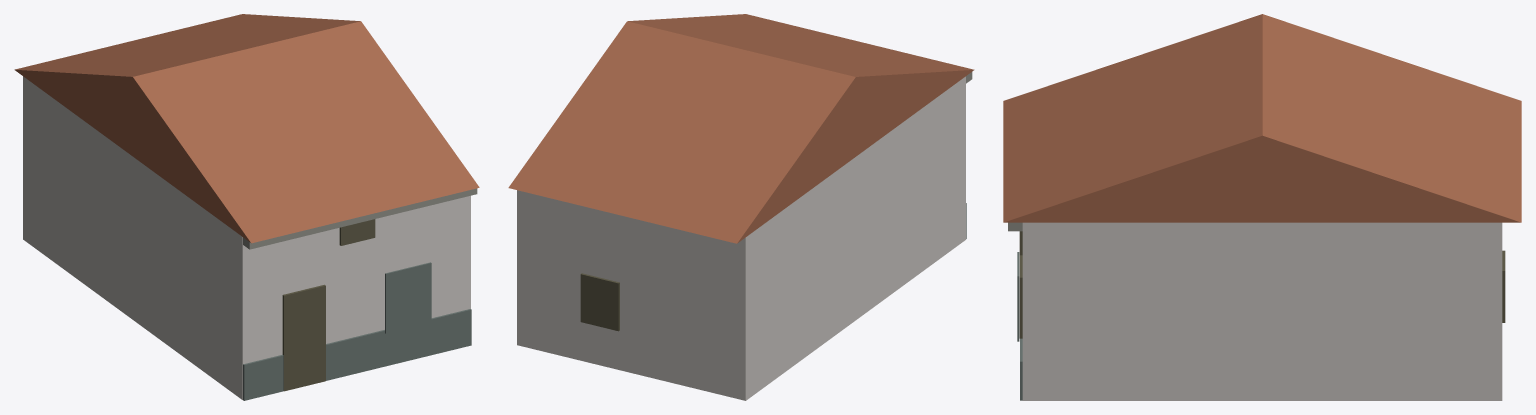
File: SM_casa_pueblo_v2_LOD0.fbx
3 views of the same model, side by side, from view 1: azimuth 30°, elevation 25°; view 2: azimuth 150°, elevation 25°; view 3: azimuth 270°, elevation 25° (orthographic). The views are drawn at different scales.
Visible parts, largest first — view 1: SM_casa_pueblo_v2_LOD0; view 2: SM_casa_pueblo_v2_LOD0; view 3: SM_casa_pueblo_v2_LOD0.
Boxes of the visible parts, box(x1,y1,x2,y2) form: SM_casa_pueblo_v2_LOD0: box(14, 14, 479, 400); SM_casa_pueblo_v2_LOD0: box(508, 14, 974, 400); SM_casa_pueblo_v2_LOD0: box(1003, 14, 1521, 400).
Bounding box in the file's own units: 6 × 6.1 × 10.8.
